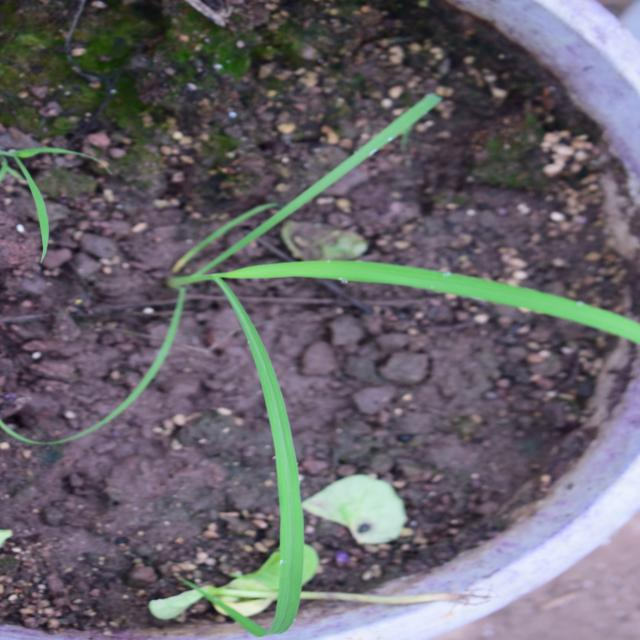barnyard_grass: (96, 0, 619, 516)
